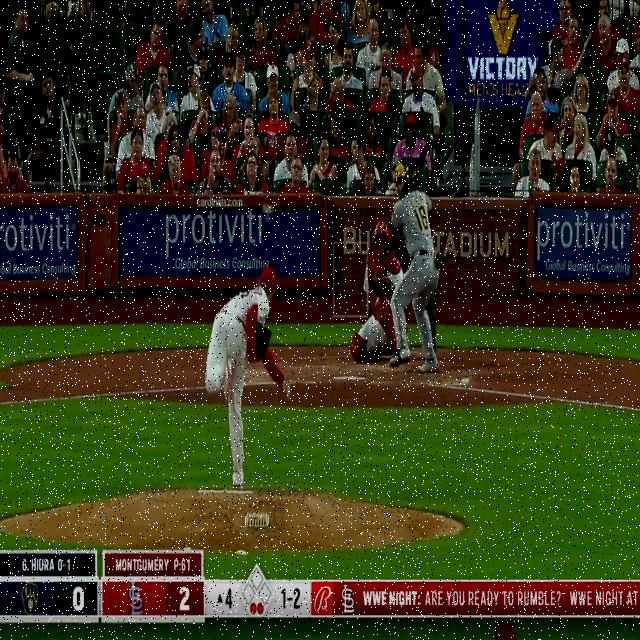baseball: (261, 200, 276, 218)
